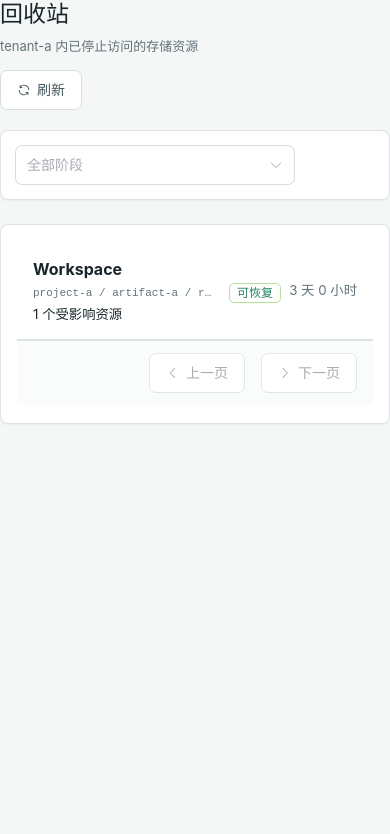
Test: Recycle bin › shows recoverable resources and opens the operation details
Click the button with class "mobile-resource-item": [195, 292] box [17,243,373,340]
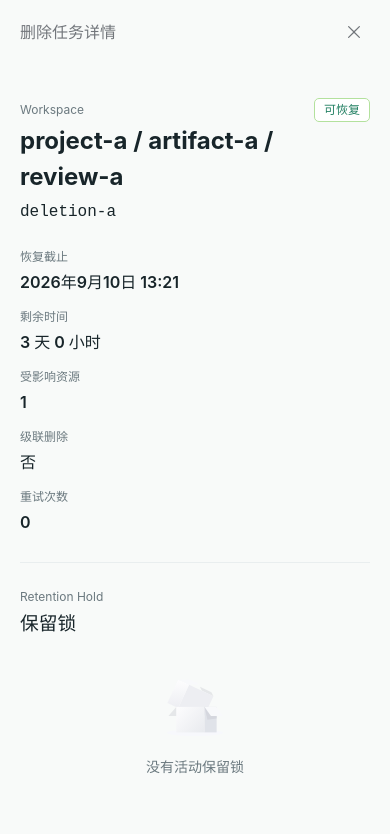
Expected: the text "删除任务详情" is shown, [20,22,116,42]
Expected: the text "没有活动保留锁" is shown, [146,756,244,777]
